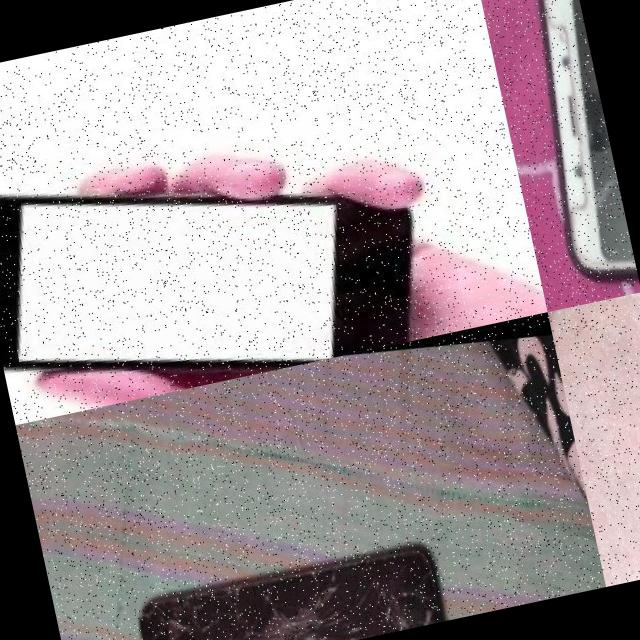screen crack: (120, 503, 445, 640), (507, 0, 629, 247)
